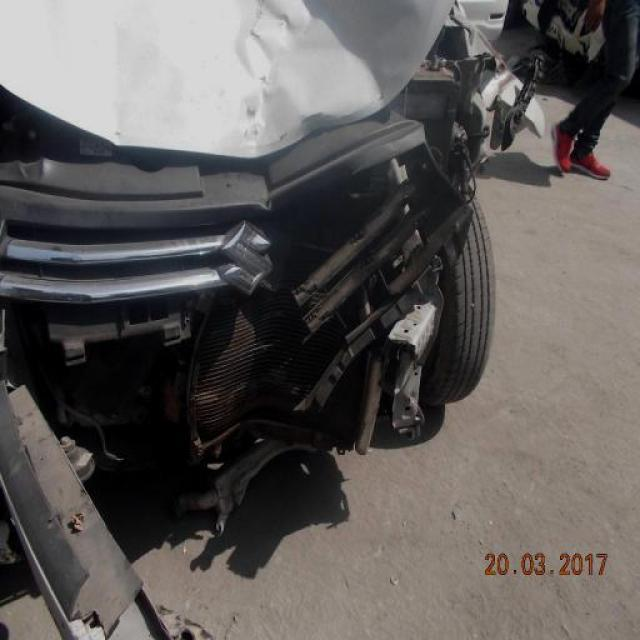car damage: (0, 252, 127, 354)
